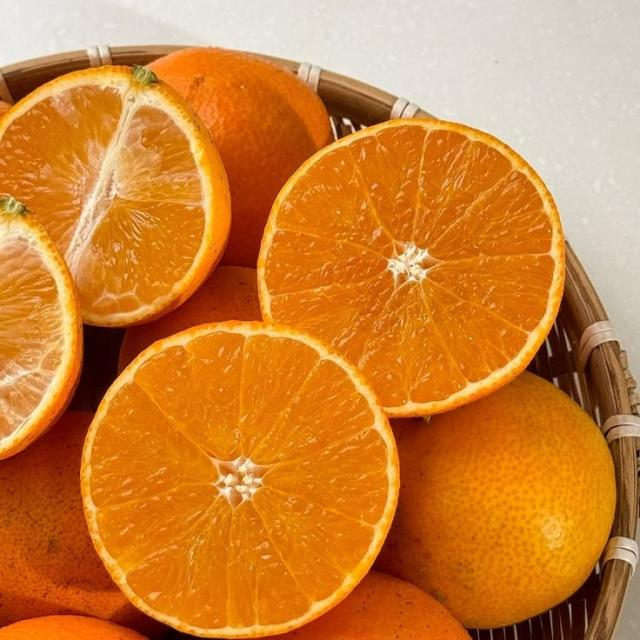orange: (81, 322, 399, 637), (259, 120, 564, 416), (379, 373, 615, 627), (0, 67, 230, 326), (150, 48, 331, 266), (0, 412, 156, 632), (0, 198, 82, 459), (120, 267, 260, 370), (272, 572, 469, 639), (0, 616, 145, 639), (0, 101, 10, 116)
